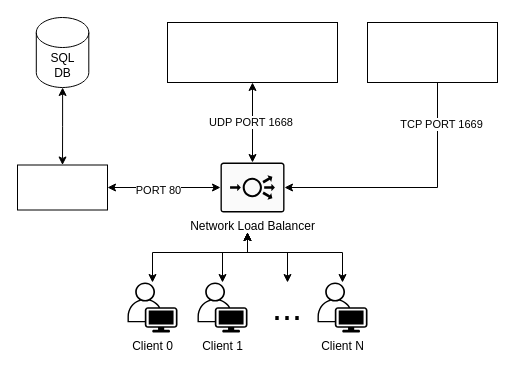
This 515x386 diagram has some shape labels left out. Here are the shapes that lost their labels. From the top down, the box of each, then its label:
(166, 22, 338, 82): UDP Realtime Stream Server (Physics, Input )
(366, 22, 498, 82): TCP Patch Server (Mods, Files )
(16, 164, 108, 210): HTTPs Auth Server
